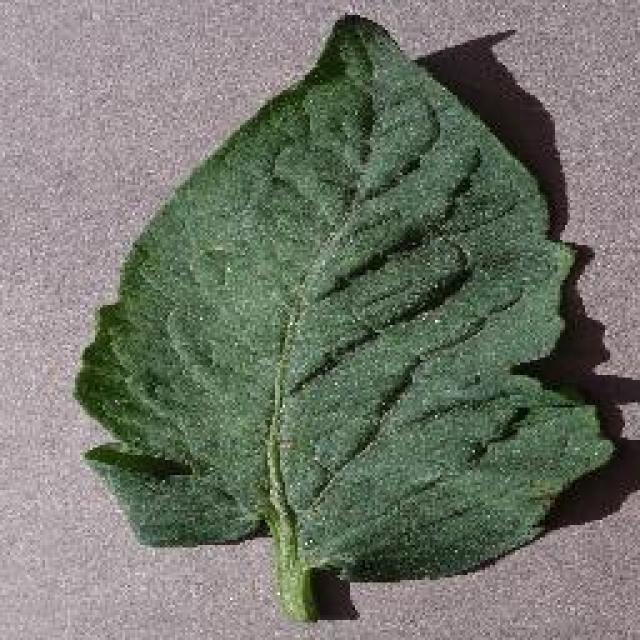Tom_Target_Spot: (232, 323, 322, 495)
